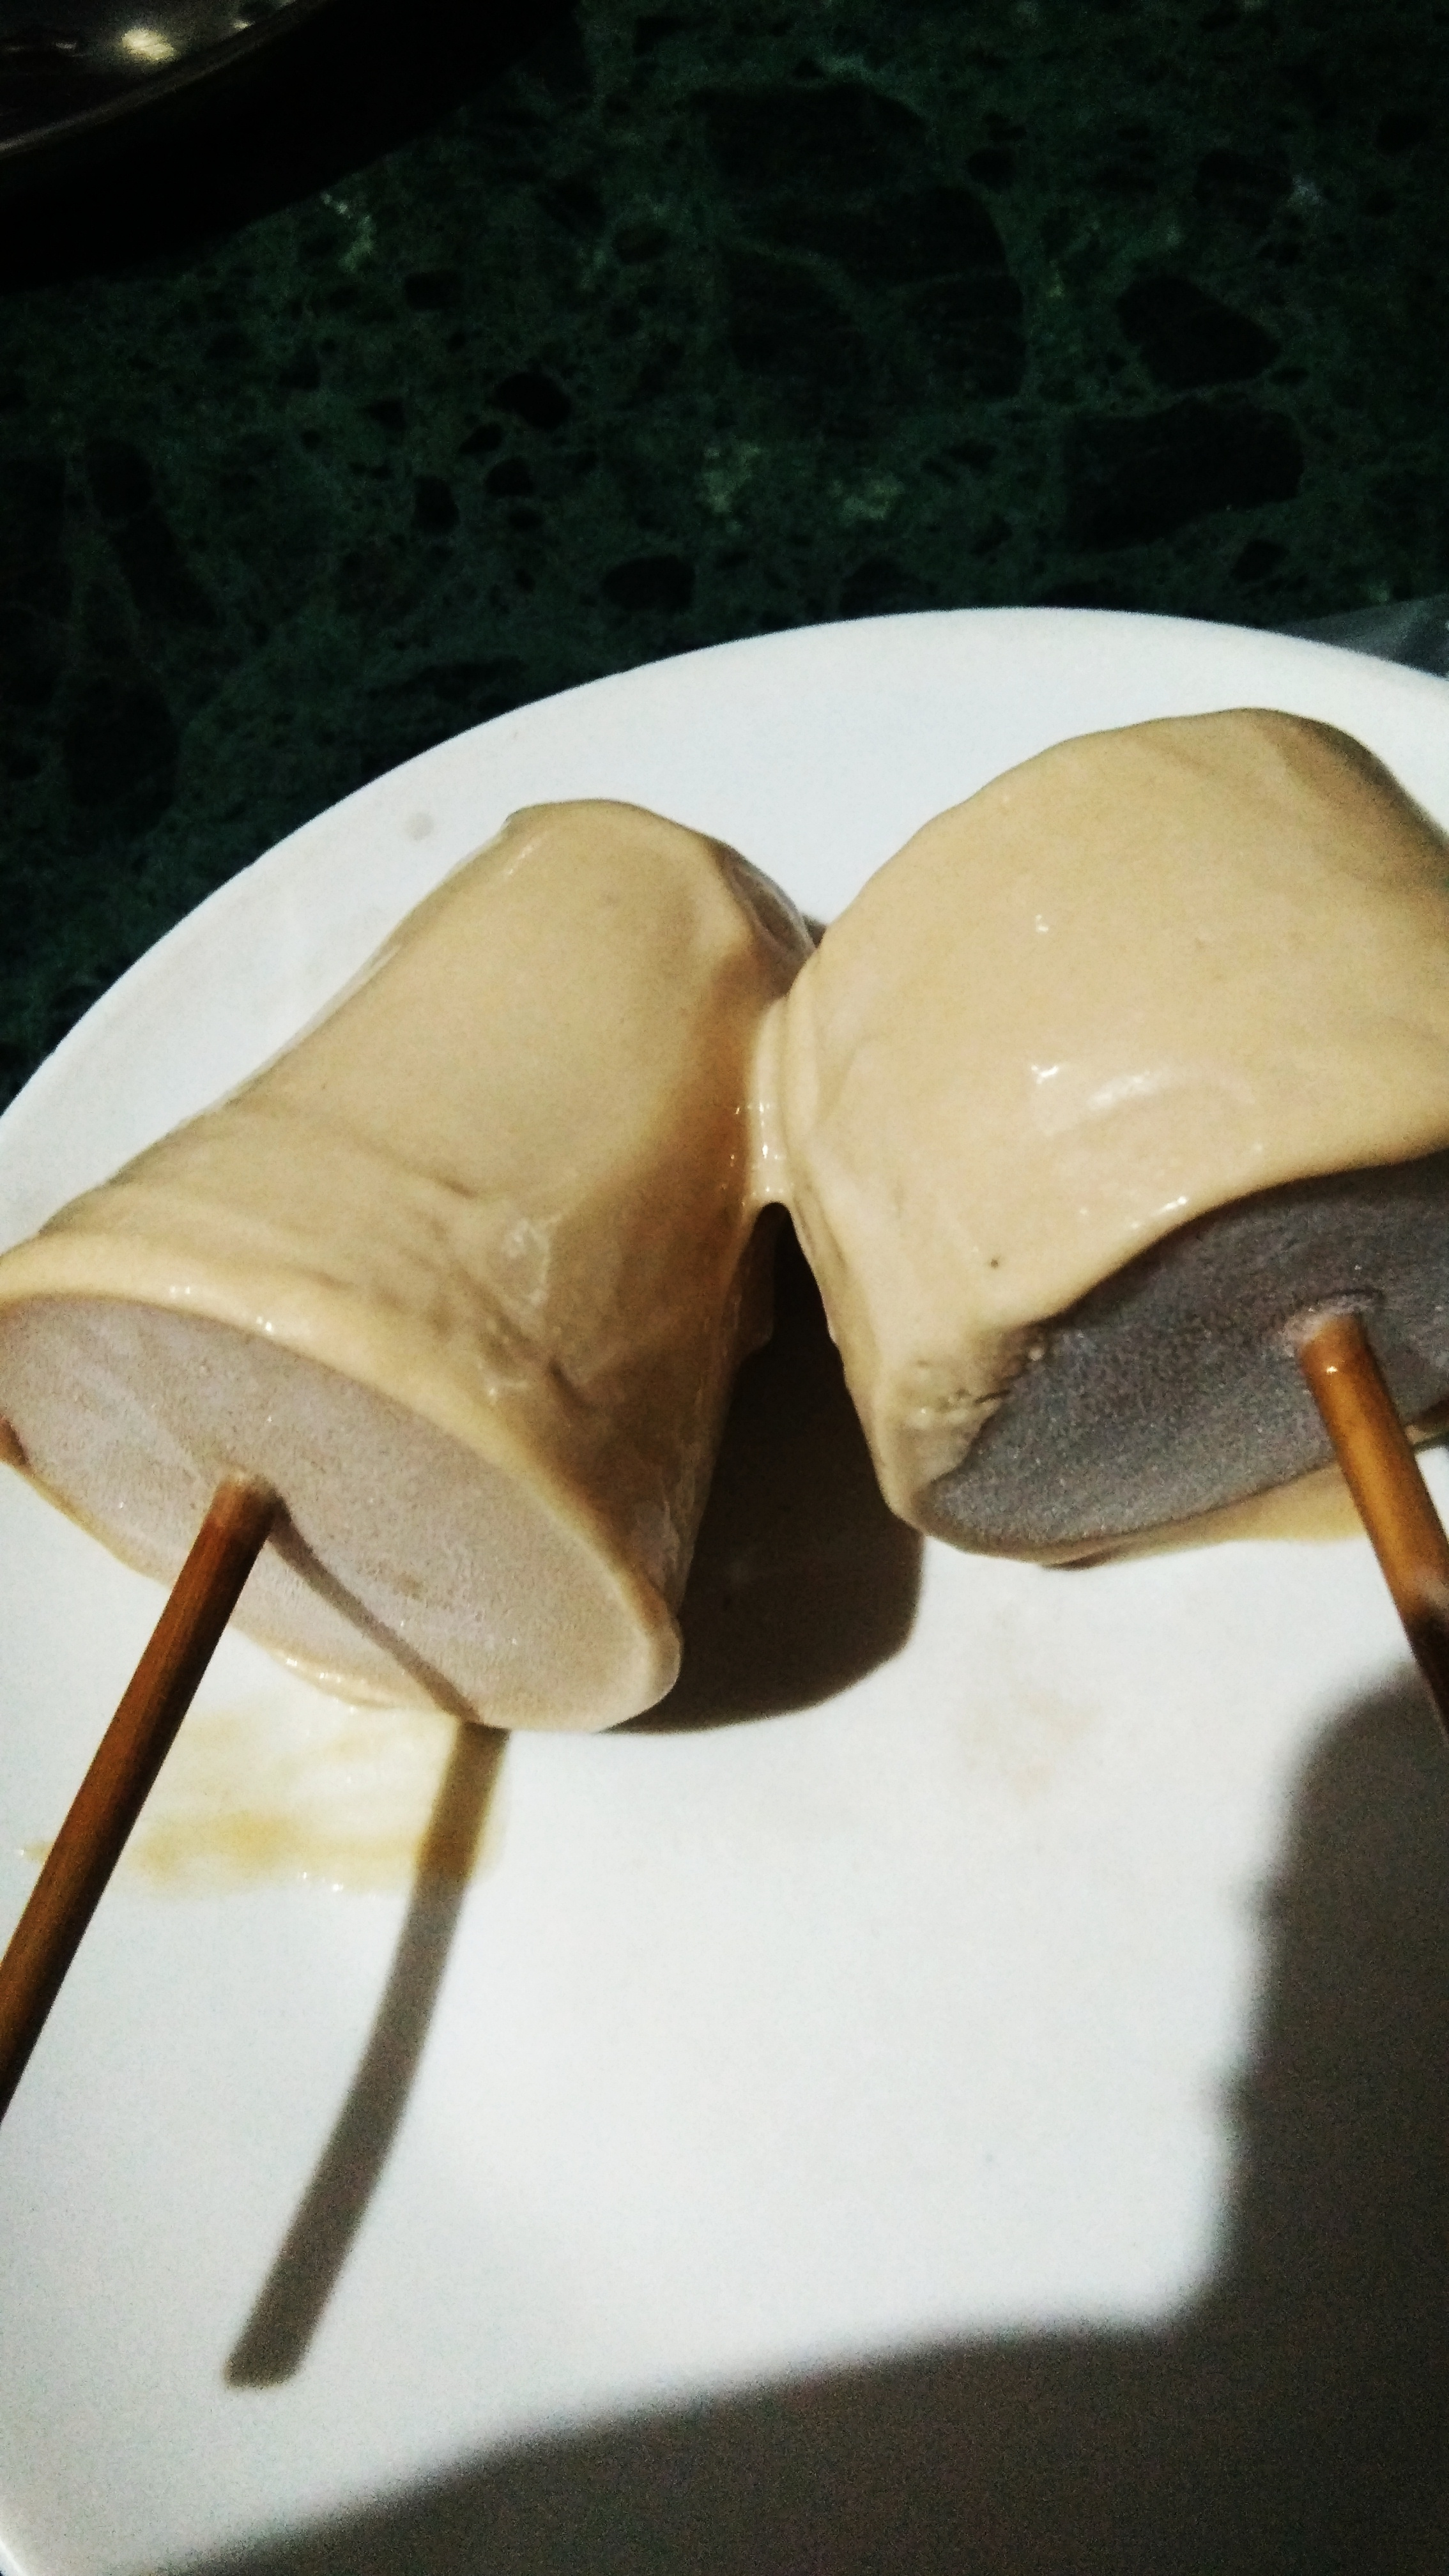food: (0, 787, 817, 1746), (754, 686, 1449, 1585)
